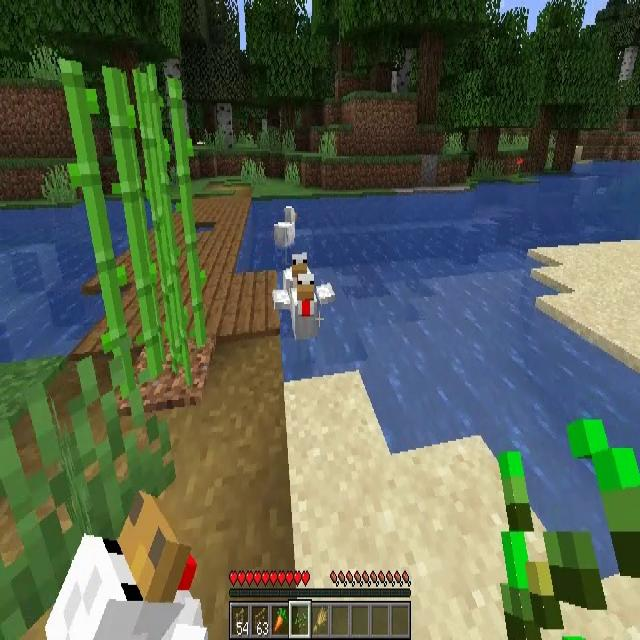duck: (44, 490, 208, 640), (272, 275, 334, 342), (283, 255, 313, 289), (275, 206, 295, 254)
